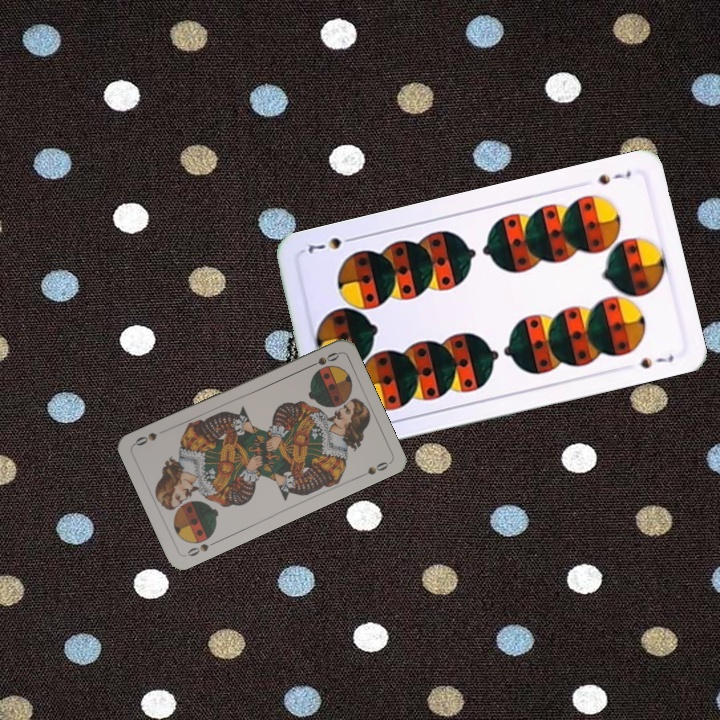S7: (594, 166, 634, 188)
SO: (303, 348, 342, 371), (183, 537, 220, 559)
